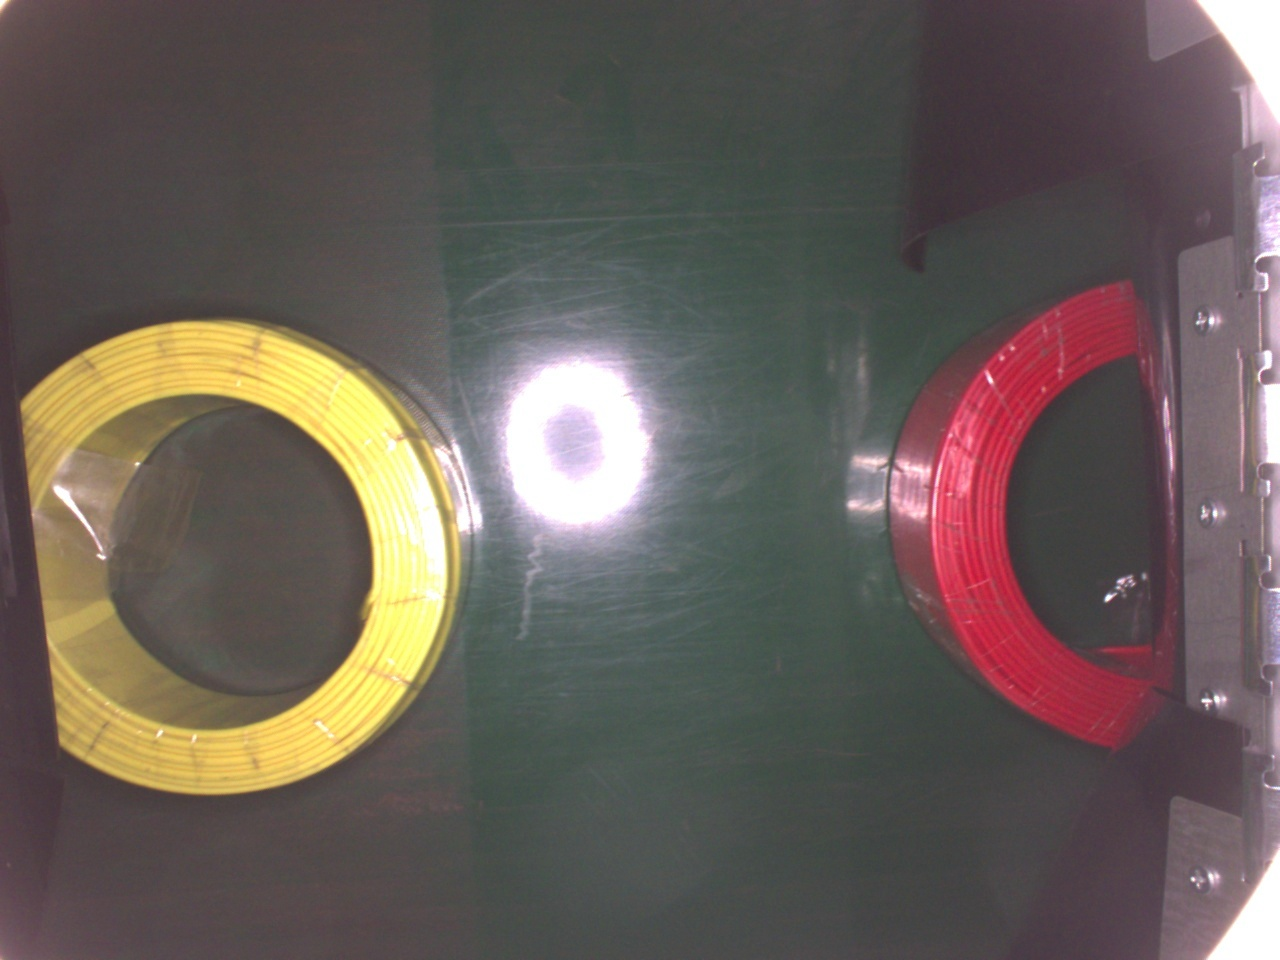red: (883, 276, 1181, 756)
yellow: (20, 309, 474, 798)
